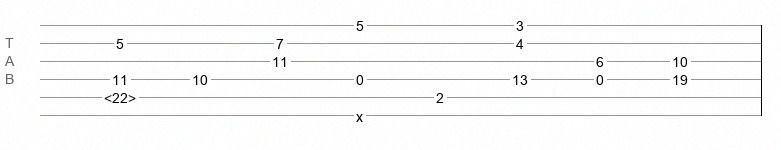0: (356, 72, 364, 82), (596, 72, 604, 82)
10: (192, 72, 208, 82), (672, 54, 688, 64)
11: (112, 72, 128, 82), (272, 54, 288, 64)
13: (512, 72, 528, 82)
19: (672, 72, 688, 82)
2: (436, 90, 444, 100)
3: (516, 18, 524, 28)
4: (516, 36, 524, 46)
5: (116, 36, 124, 46), (356, 18, 364, 28)
6: (596, 54, 604, 64)
7: (276, 36, 284, 46)
harmonic: (104, 90, 136, 100)
x: (356, 109, 363, 117)
